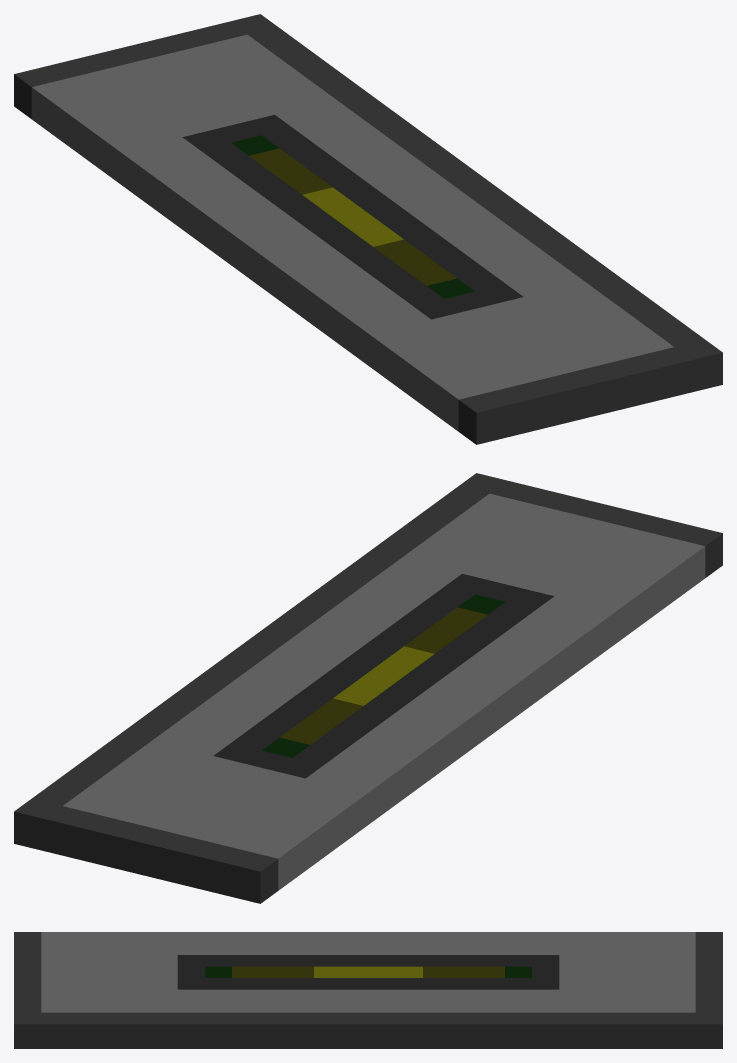
File: Security Computer Desk.obj
3 renders of one model, top to bottom at view 1: azimuth 30°, elevation 25°; view 2: azimuth 150°, elevation 25°; view 3: azimuth 270°, elevation 25°, orthographic. The views are drawn at different scales.
Size of the model in its own units: 8 by 1 by 26.
1 material, 1 textured.
